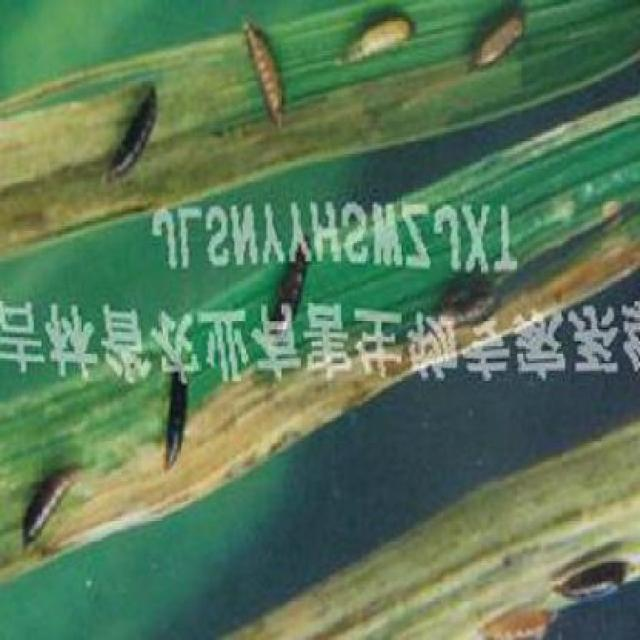whorl-maggot: (232, 12, 302, 143), (98, 74, 171, 186), (17, 462, 92, 563), (328, 5, 426, 76), (544, 551, 630, 614), (463, 8, 531, 74), (161, 383, 197, 475)
